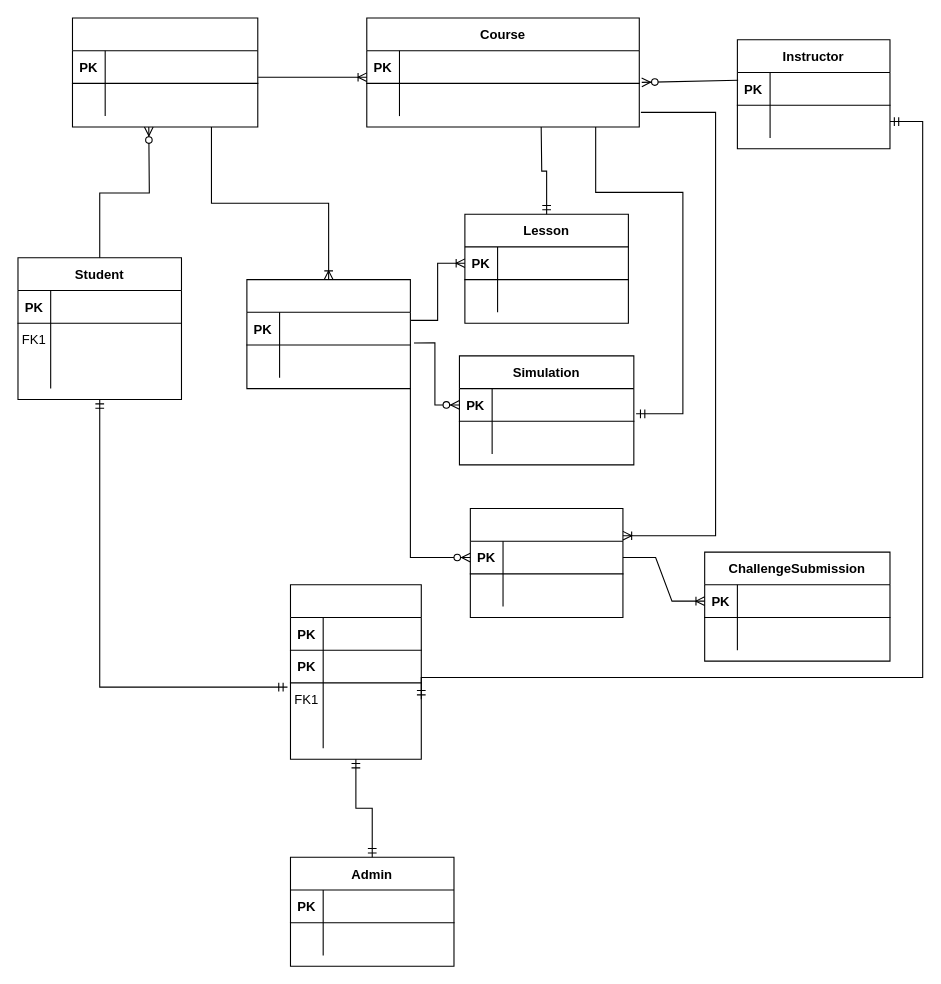
Some shapes in this 941 by 984 pixel diagram are drawn without their labels. The box of each missing label's shape, as (x1, y1, x2, y2) in pixels:
Challenge: (469, 507, 623, 617)
Enrollment: (71, 17, 258, 127)
Progress: (246, 278, 410, 389)
User: (289, 584, 421, 759)
